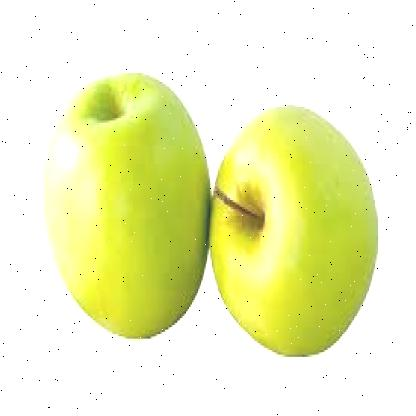apple: (43, 75, 207, 348), (210, 105, 380, 366)
